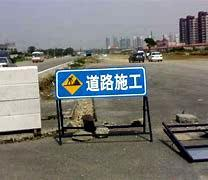sign: (55, 67, 144, 95)
